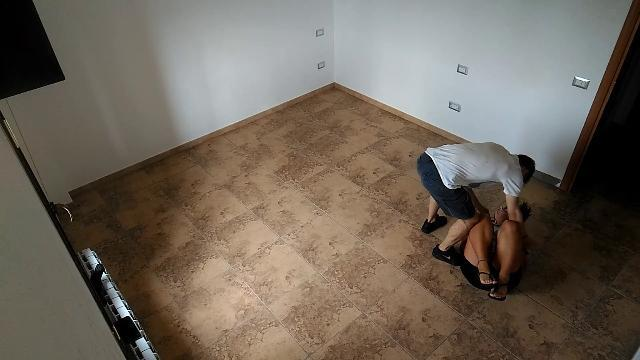violence: (414, 140, 538, 302)
